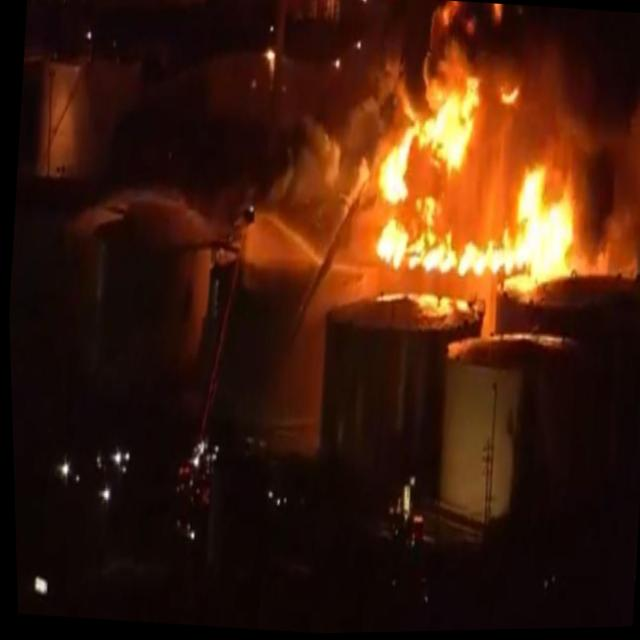fire: (359, 37, 597, 313)
